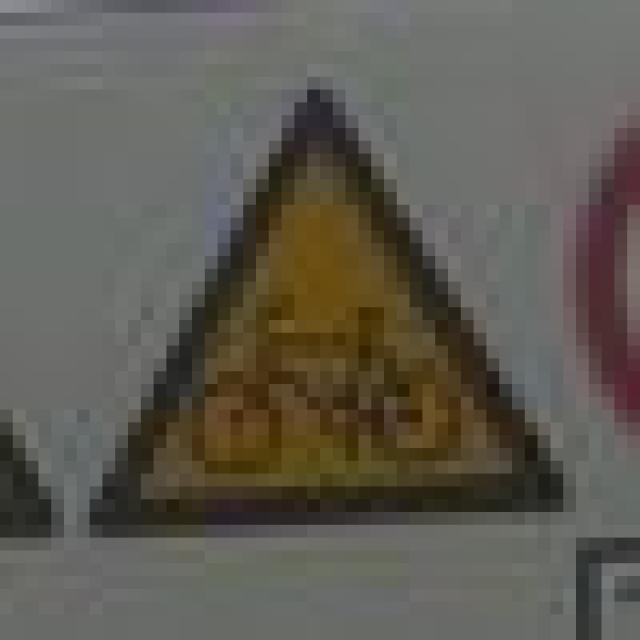cycle_crossing: (77, 64, 550, 538)
